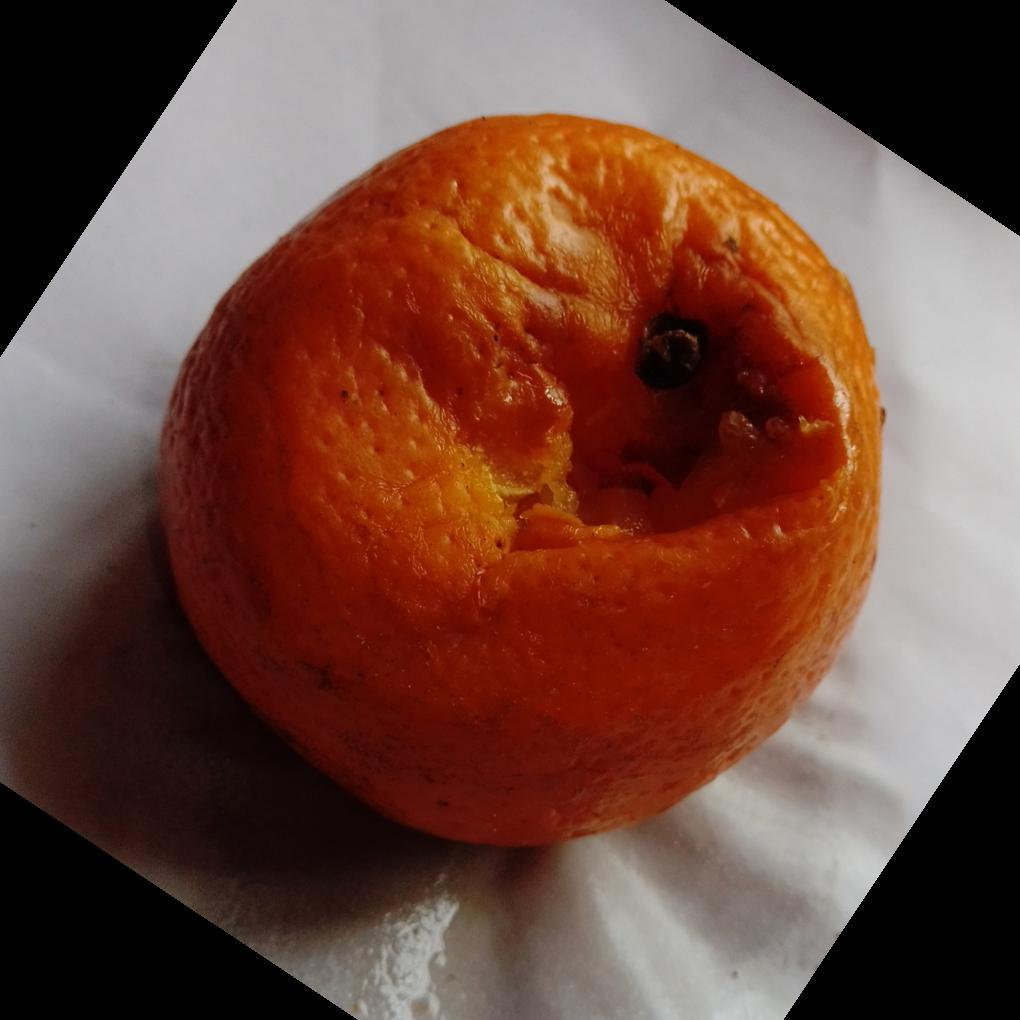FreshOrange: (152, 112, 887, 853)
